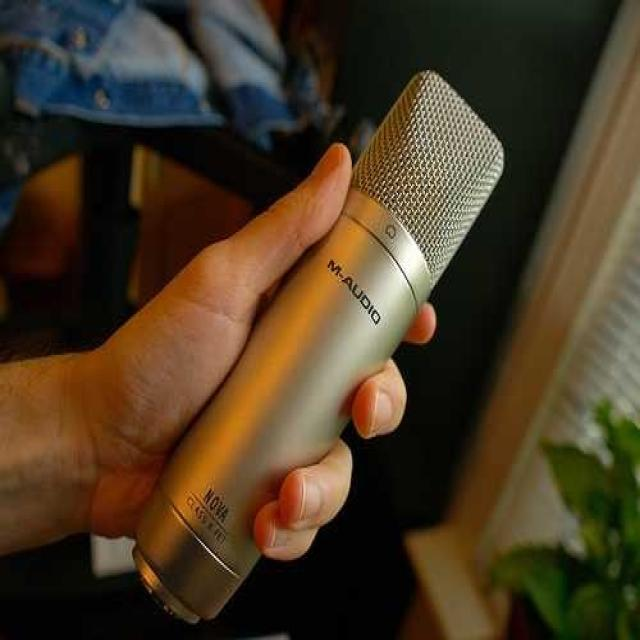microphone: (139, 73, 496, 616)
